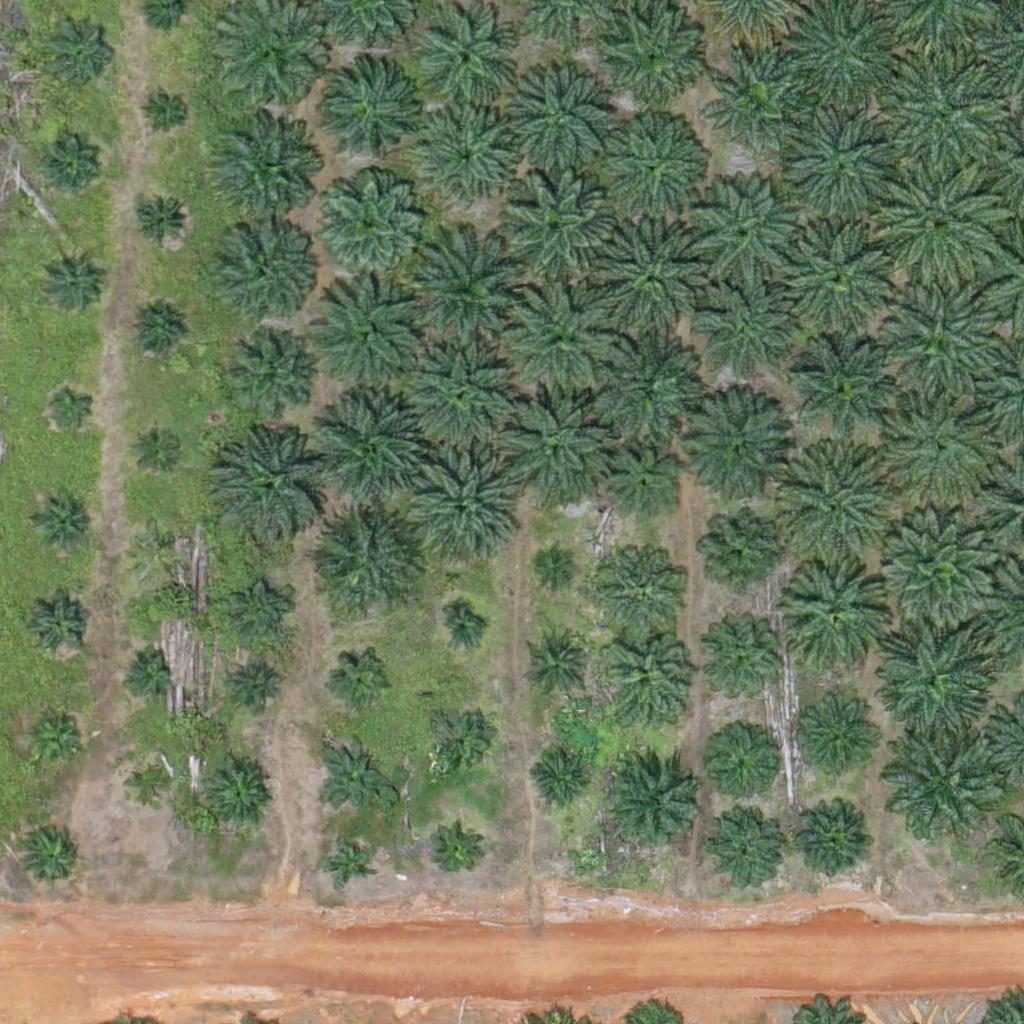Kelapa_Sawit: (409, 229, 534, 355), (207, 423, 332, 549), (882, 53, 1007, 179), (876, 156, 1001, 281), (404, 337, 517, 451), (314, 282, 427, 396), (312, 167, 425, 281), (884, 722, 997, 835), (774, 554, 887, 667), (677, 394, 790, 507), (595, 222, 708, 335), (581, 323, 694, 436), (402, 446, 515, 559), (315, 388, 428, 501), (306, 503, 419, 616), (692, 174, 805, 287), (495, 383, 607, 497), (209, 118, 321, 232), (883, 279, 995, 392), (881, 388, 993, 501), (879, 507, 991, 620), (875, 622, 987, 735), (777, 444, 889, 557), (506, 281, 618, 394), (782, 105, 894, 218), (781, 217, 893, 330), (501, 171, 613, 284), (791, 341, 891, 442), (600, 753, 700, 854), (603, 119, 703, 220), (510, 64, 610, 165), (418, 13, 518, 114), (215, 216, 315, 317), (419, 106, 519, 206), (323, 60, 423, 160), (595, 544, 683, 632), (603, 638, 691, 726), (225, 333, 313, 421), (713, 56, 800, 145), (789, 691, 876, 779), (700, 288, 787, 376), (703, 514, 778, 590), (797, 807, 872, 883), (705, 629, 780, 705), (708, 811, 783, 887), (601, 447, 676, 523), (43, 12, 118, 87), (200, 755, 275, 830), (316, 737, 391, 812), (39, 139, 102, 202), (28, 488, 91, 551), (28, 593, 91, 656), (705, 734, 768, 797), (21, 825, 84, 888), (529, 752, 592, 815), (424, 707, 487, 770), (21, 707, 84, 770), (129, 189, 192, 252), (40, 250, 102, 313), (228, 580, 290, 643), (332, 649, 394, 712), (126, 301, 188, 364), (430, 829, 480, 880), (234, 658, 284, 709), (323, 838, 373, 889), (132, 418, 182, 469), (131, 515, 181, 566), (121, 644, 171, 695), (47, 380, 97, 431), (532, 637, 582, 687), (125, 760, 175, 810), (141, 88, 191, 138), (540, 548, 578, 586), (445, 610, 482, 648)
